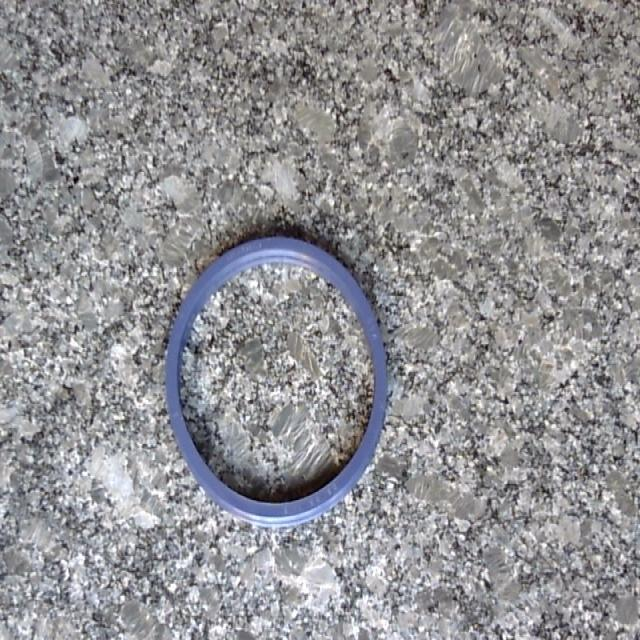purple-ring: (168, 238, 386, 525)
